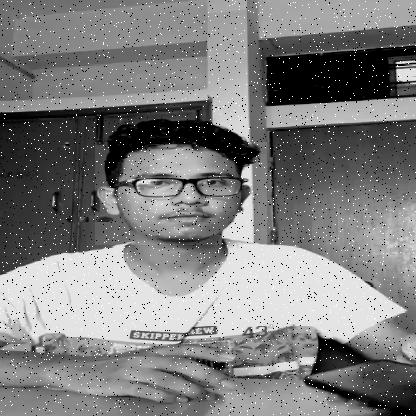Normal: (95, 142, 266, 245)
